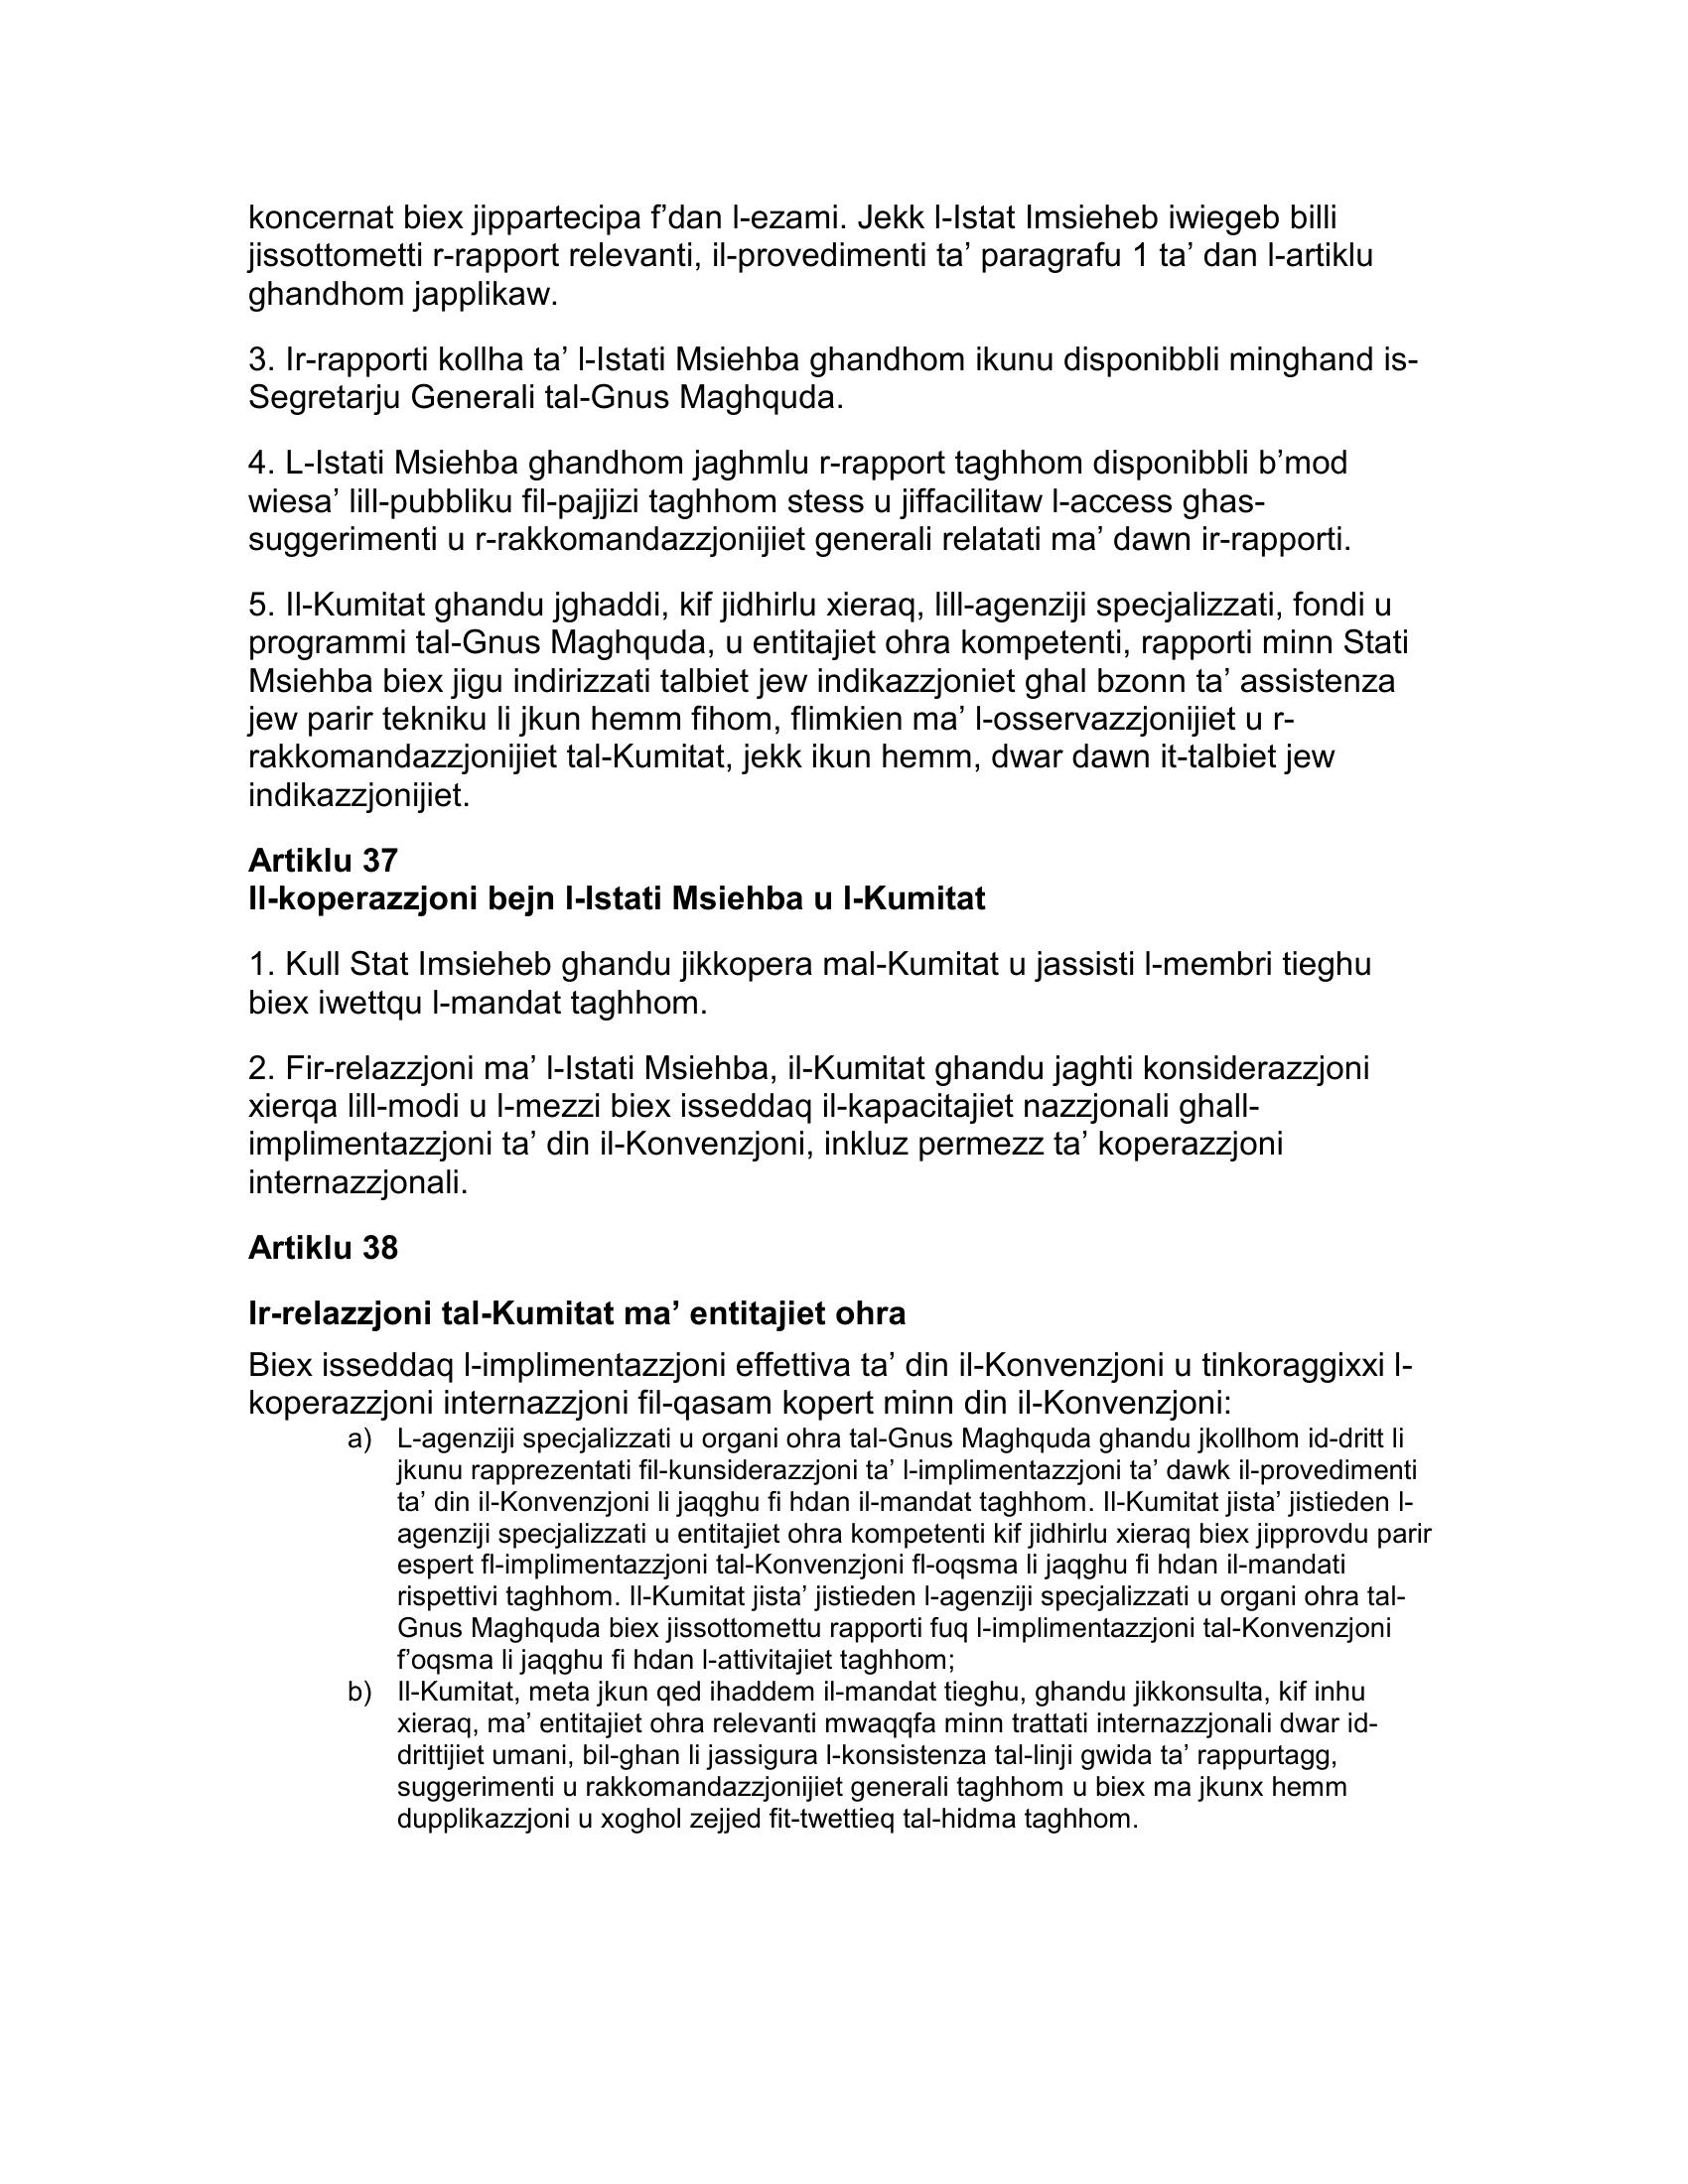text: (223, 184, 1459, 1867)
